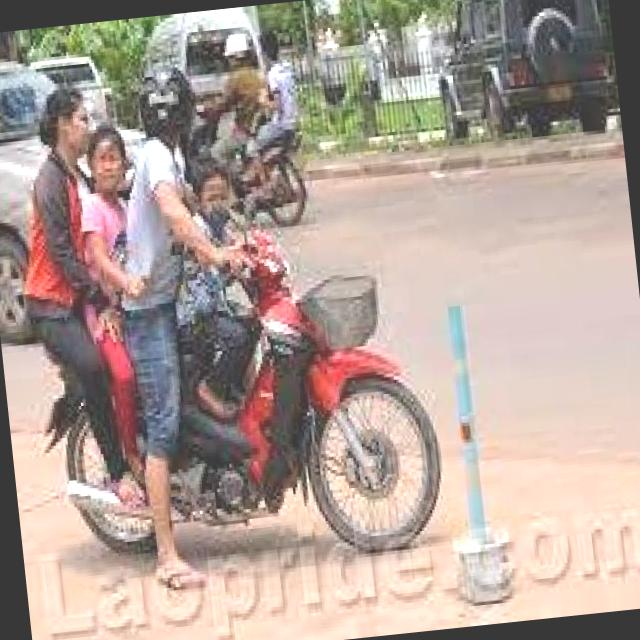motorcycle: (17, 212, 460, 594)
person: (86, 58, 231, 450), (0, 80, 127, 453), (62, 120, 162, 446), (163, 154, 260, 436)
rider_region: (0, 44, 448, 581)
